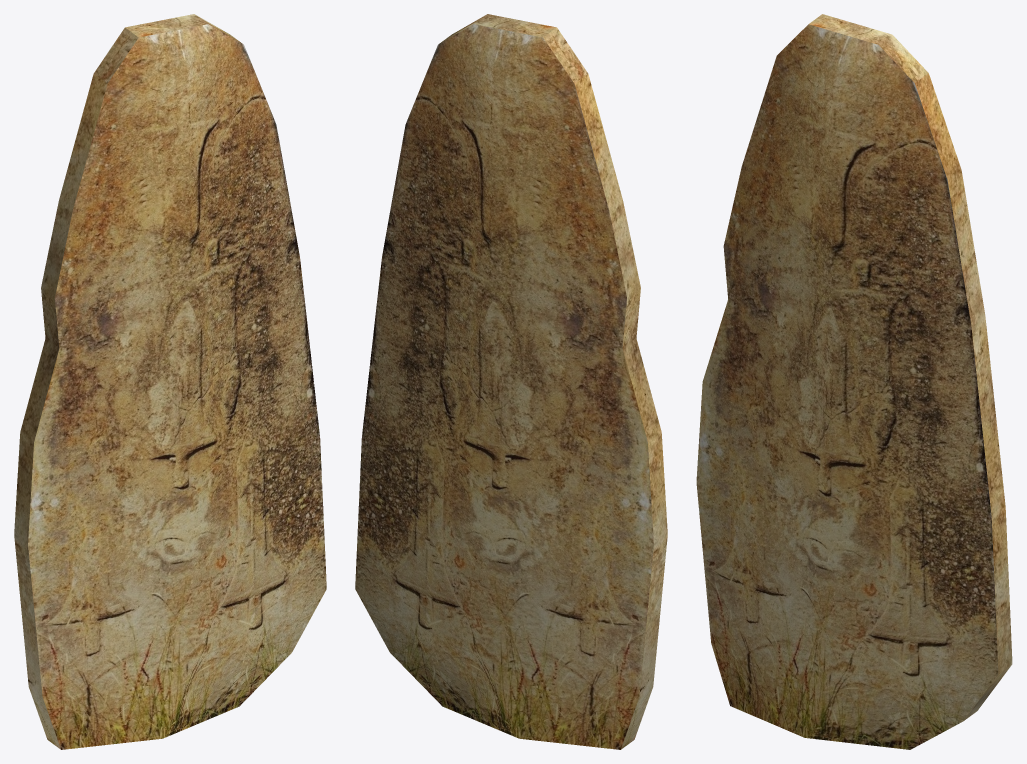
The model's file is Rock2.FBX.
3 views of the same model, side by side, from view 1: azimuth 30°, elevation 25°; view 2: azimuth 150°, elevation 25°; view 3: azimuth 330°, elevation 25° (orthographic).
Visible parts, largest first — view 1: 2Rock; view 2: 2Rock; view 3: 2Rock.
Boxes of the visible parts, box(x1,y1,x2,y2) form: 2Rock: box(14, 14, 326, 749); 2Rock: box(355, 14, 667, 749); 2Rock: box(696, 14, 1012, 749).
Bounding box in the file's own units: 4.15 × 9.21 × 1.
